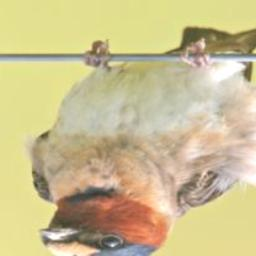Swallow: (22, 24, 256, 256)
